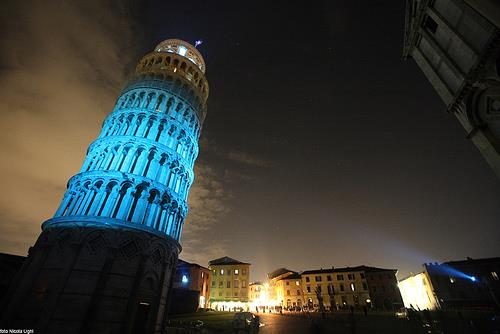Torre_di_Pisa: (14, 37, 211, 326)
